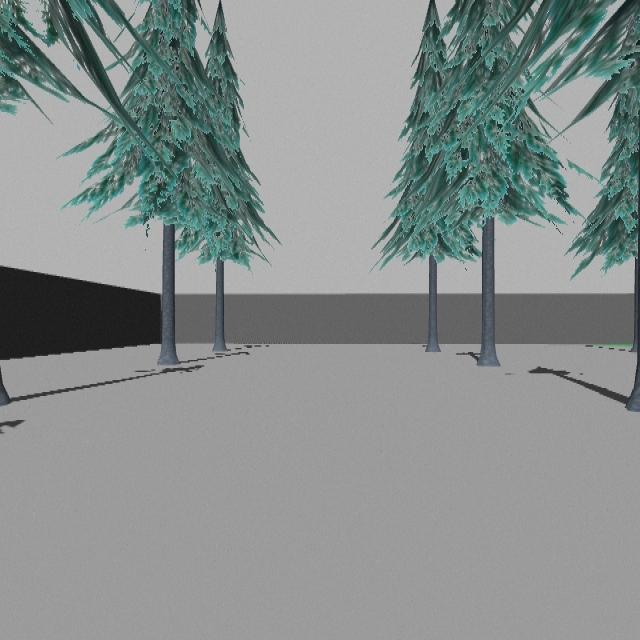tree: (58, 0, 265, 367), (411, 0, 568, 368)
